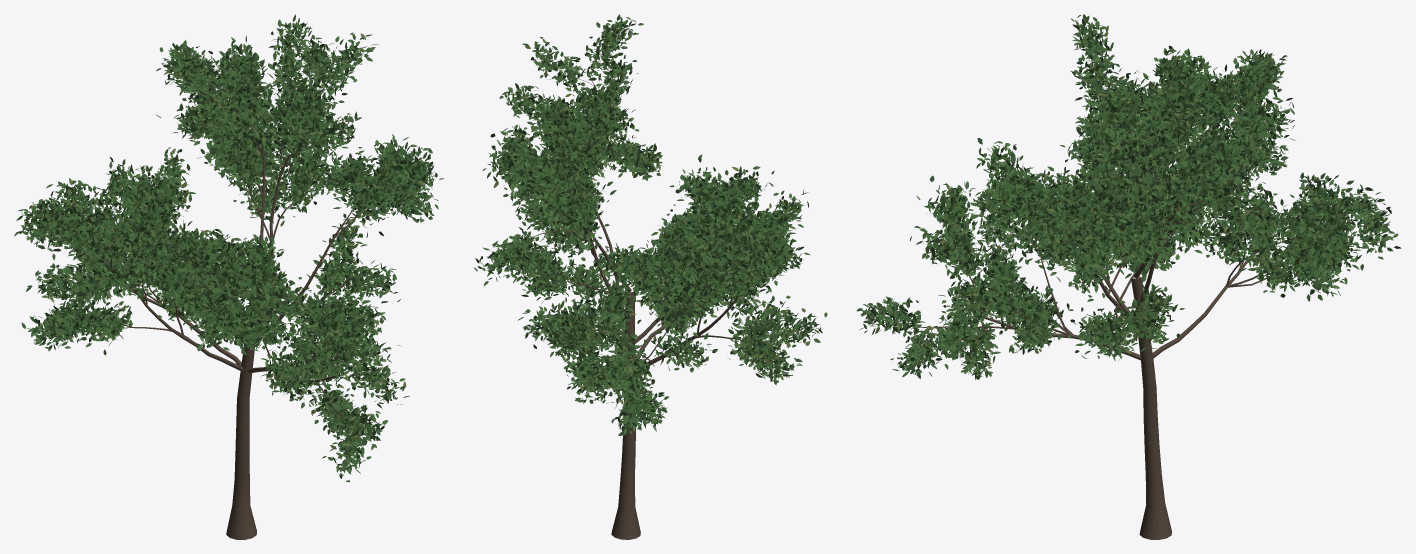
The model's file is parinari_tree.glb.
3 views of the same model, side by side, from view 1: azimuth 30°, elevation 25°; view 2: azimuth 150°, elevation 25°; view 3: azimuth 270°, elevation 25° (orthographic). The views are drawn at different scales.
Parts seen in each view (by area): view 1: parinari_tree; view 2: parinari_tree; view 3: parinari_tree.
Boxes of the visible parts, x1,y1,x2,y2 form: parinari_tree: (14,14,443,539); parinari_tree: (473,14,827,539); parinari_tree: (856,14,1401,539).
Size of the model in its own units: 21.65 by 28.45 by 26.17.
Materials: 2 (2 with a texture image).
